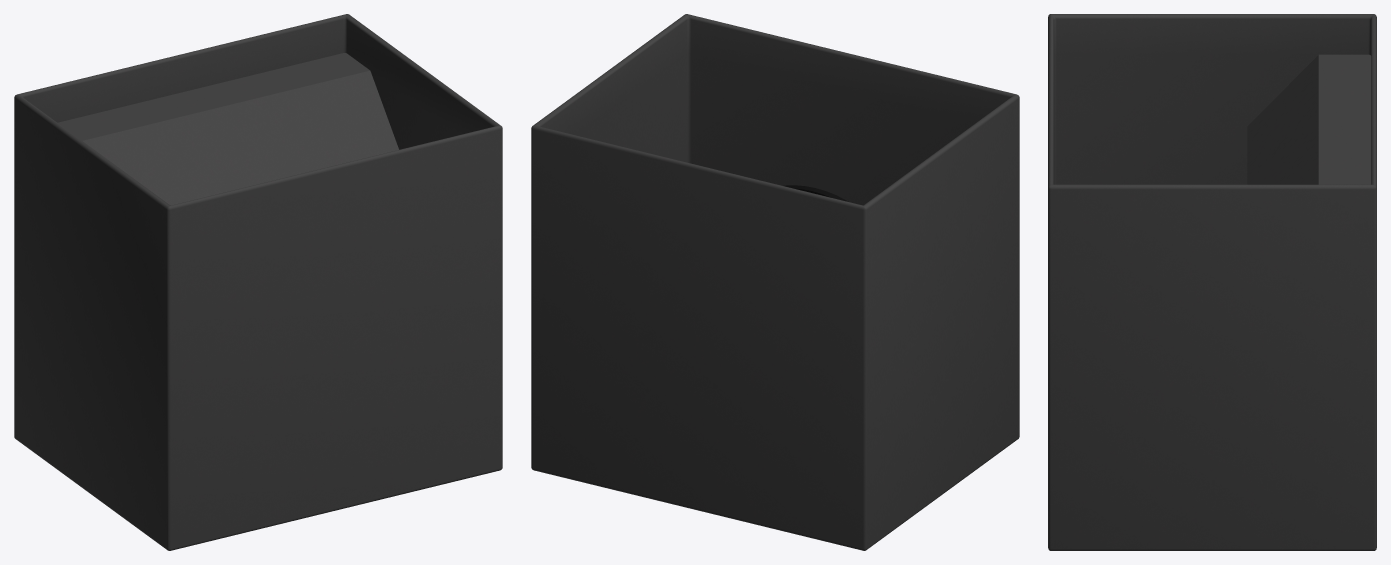
File: wac-window-wall-sconce.glb
The picture shows the model from 3 angles, left to right: view 1: azimuth 30°, elevation 25°; view 2: azimuth 150°, elevation 25°; view 3: azimuth 270°, elevation 25°; orthographic projection. The views are drawn at different scales.
Visible parts, largest first — view 1: Cube; view 2: Cube; view 3: Cube.
Boxes of the visible parts, <box> form: Cube: <box>14,14,502,550</box>; Cube: <box>531,14,1019,550</box>; Cube: <box>1048,14,1376,550</box>.
Bounding box in the file's own units: 0.1617 × 0.1587 × 0.1294.
Materials: 3 (2 with a texture image).
